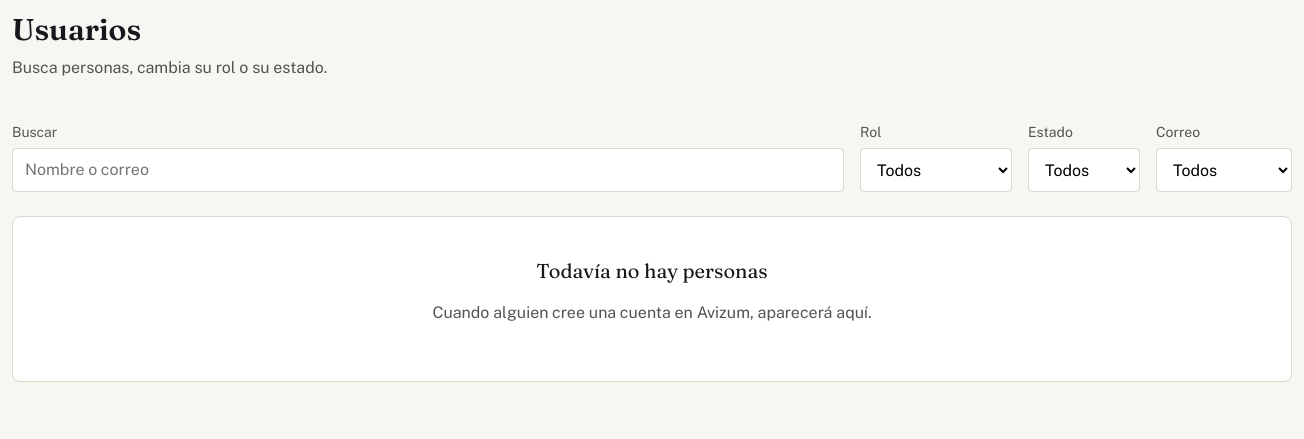
Test: Usuarios › sin resultados muestra EmptyState con la sugerencia de quitar filtros
Select "Inactivas" in the dropdown labelled "Estado" at (1084,170), box left=1028, top=148, right=1140, bottom=192
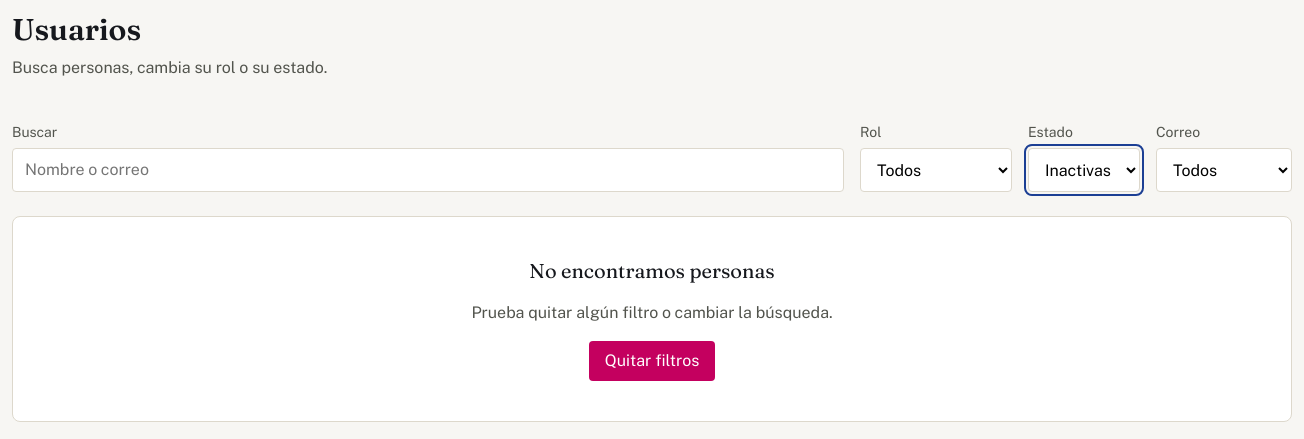
Expected: the text "No encontramos personas" is shown, left=529, top=258, right=775, bottom=283
Expected: the text "Prueba quitar algún filtro o cambiar la búsqueda." is shown, left=471, top=303, right=833, bottom=322
Click the button "Quitar filtros" at (652,361), box left=589, top=341, right=715, bottom=381
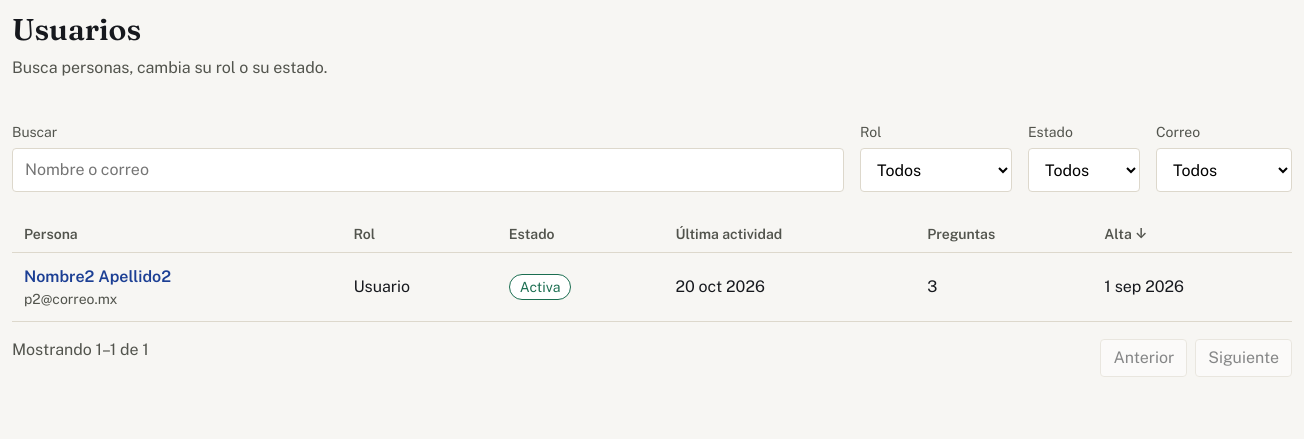
Expected: the button "Nombre2 Apellido2" is shown, left=24, top=265, right=171, bottom=289
